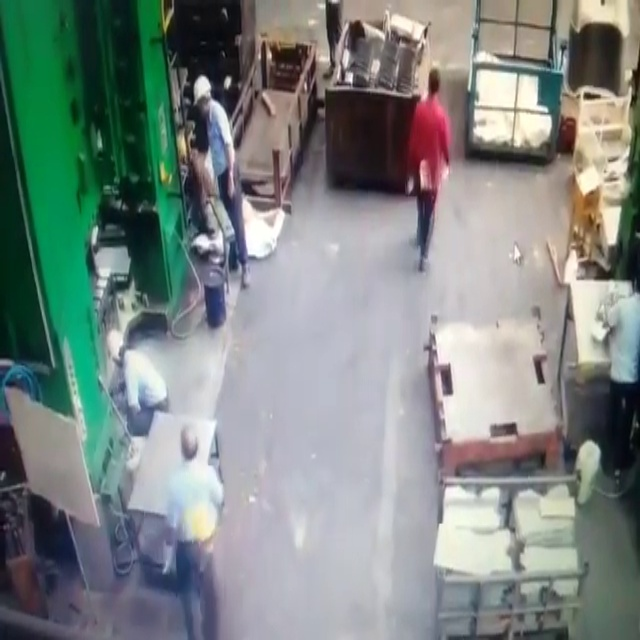safety_helmet: (192, 75, 211, 105)
